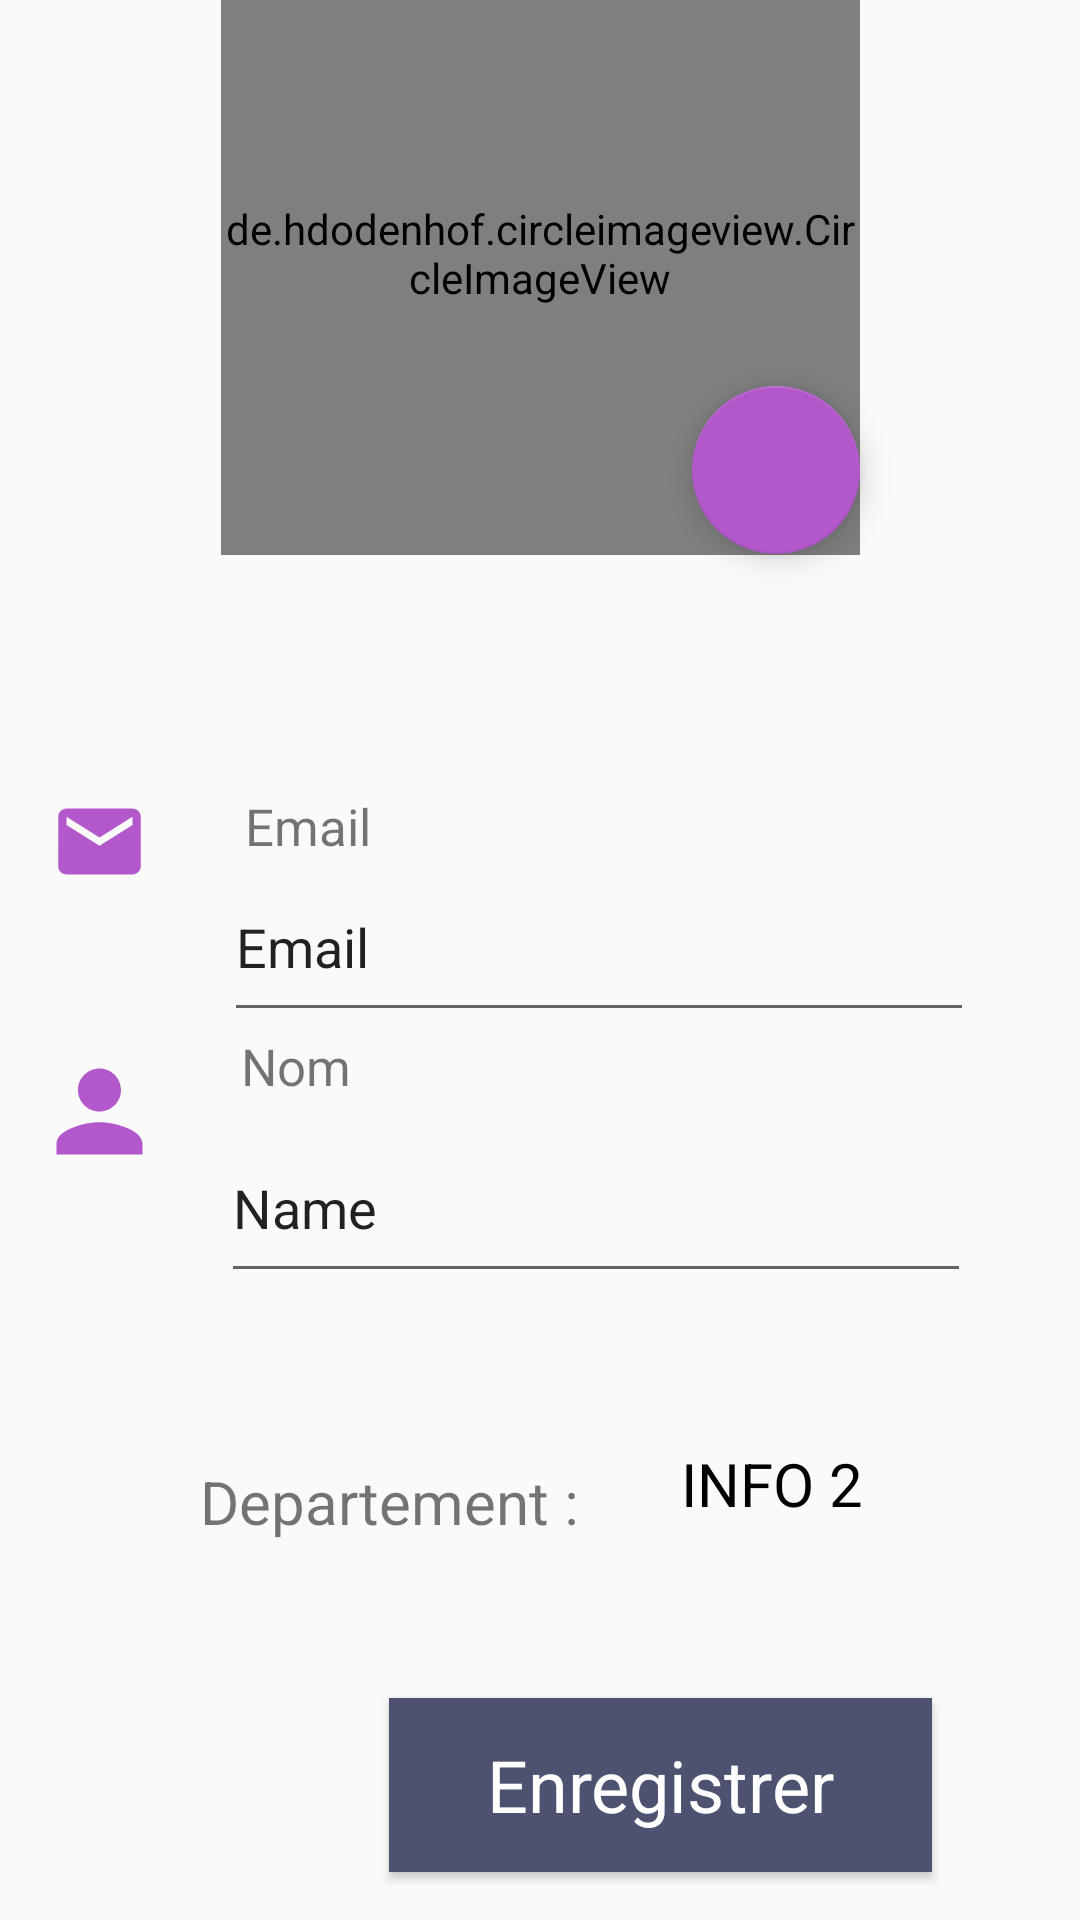

Screen size 1080*1920. Icon name, then its box in pixels as (x1, y1, x2, y2):
person violet: (56, 1068, 143, 1155)
